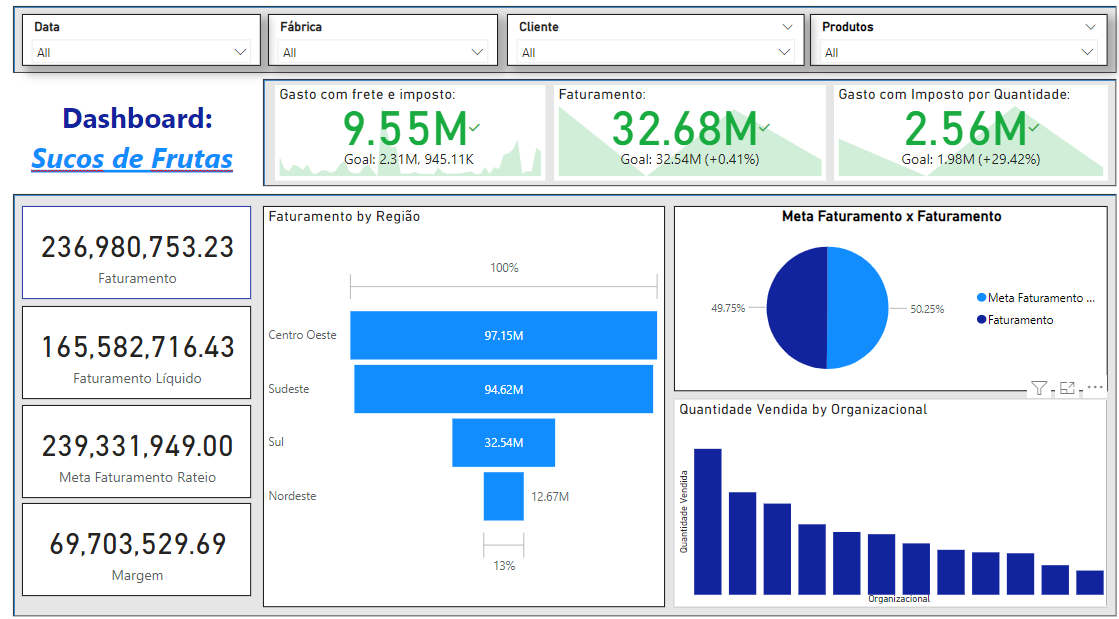

This screenshot's page, from the dashboard's own definition file:
{"tool":"powerbi","page":{"name":"Page 1","canvas":[1280,720],"ordinal":0},"visuals":[{"type":"shape","box":[15.9,12.5,1256.6,76.3],"z":0},{"type":"slicer","fields":{"Values":["Produto.Categoria","Produto.Marca","Produto.Produto"]},"box":[923.9,21.6,339.5,59.2],"z":1000},{"type":"slicer","fields":{"Values":["Fabrica.Fábrica"]},"box":[306.5,21.6,262,59.2],"z":2000},{"type":"slicer","fields":{"Values":["Cliente.Cliente"]},"box":[578.7,21.6,339.5,59.2],"z":3000},{"type":"slicer","fields":{"Values":["Tempo.Ano","Tempo.Semestre","Tempo.Trimestre","Tempo.Mês"]},"box":[26.2,21.6,272.3,59.2],"z":4000},{"type":"shape","box":[300.8,95.7,971.8,121.9],"z":5000},{"type":"shape","box":[15.9,226.7,1256.6,480.8],"z":8000},{"type":"pieChart","title":"Meta Faturamento x Faturamento","fields":{"Y":["Fato Completa.Meta Faturamento Rateio","Fato Completa.Faturamento"]},"box":[769,240.4,494.4,210.8],"z":9000},{"type":"clusteredColumnChart","fields":{"Category":["Organizacional.Organizacional"],"Y":["Fato Completa.Quantidade Vendida"]},"box":[769,460.3,494.4,237],"z":10000},{"type":"kpi","title":"Faturamento:","fields":{"Goal":["Fato Completa.Faturamento"],"TrendLine":["Cliente.Região"],"Indicator":["Fato Completa.Meta Faturamento Rateio"]},"box":[632.3,102.5,309.9,109.4],"z":11000},{"type":"funnel","fields":{"Y":["Fato Completa.Faturamento"],"Category":["Cliente.Estado","Cliente.Região"]},"box":[300.8,240.4,458,456.8],"z":12000},{"type":"card","fields":{"Values":["Fato Completa.Meta Faturamento Rateio"]},"box":[26.2,467.1,260.9,105.9],"z":13000},{"type":"card","fields":{"Values":["Measures.Margem"]},"box":[26.2,578.7,260.9,105.9],"z":14000},{"type":"card","fields":{"Values":["Measures.Faturamento Líquido"]},"box":[26.2,354.3,260.9,105.9],"z":14001},{"type":"card","fields":{"Values":["Fato Completa.Faturamento"]},"box":[26.2,240.4,260.9,105.9],"z":14002},{"type":"kpi","title":"Gasto com Imposto por Quantidade:","fields":{"TrendLine":["Cliente.Região"],"Goal":["Fato Completa.Quantidade Vendida"],"Indicator":["Fato Completa.Imposto"]},"box":[951.3,102.5,312.2,109.4],"z":14003},{"type":"kpi","title":"Gasto com frete e imposto:","fields":{"TrendLine":["Cliente.Cliente"],"Goal":["Fato Completa.Frete Rateio","Fato Completa.Imposto"],"Indicator":["Fato Completa.Faturamento"]},"box":[314.4,102.5,307.6,109.4],"z":14004},{"type":"textbox","box":[15.9,157.2,271.1,54.7],"z":14005},{"type":"textbox","box":[21.6,111.6,271.1,54.7],"z":14006}]}

Visuals, with their boxes in screenshot pixels (x1, y1, x2, y2), scaled from the page's 1280x720 canvas onto the 1119x619 screenshot:
shape: box(14, 11, 1112, 76)
slicer - Produto.Categoria x Produto.Marca: box(808, 19, 1104, 69)
slicer - Fabrica.Fábrica: box(268, 19, 497, 69)
slicer - Cliente.Cliente: box(506, 19, 803, 69)
slicer - Tempo.Ano x Tempo.Semestre: box(23, 19, 261, 69)
shape: box(263, 82, 1113, 187)
shape: box(14, 195, 1112, 608)
"Meta Faturamento x Faturamento" pieChart: box(672, 207, 1104, 388)
clusteredColumnChart - Organizacional.Organizacional x Fato Completa.Quantidade Vendida: box(672, 396, 1104, 599)
"Faturamento:" kpi: box(553, 88, 824, 182)
funnel - Fato Completa.Faturamento x Cliente.Estado: box(263, 207, 663, 599)
card - Fato Completa.Meta Faturamento Rateio: box(23, 402, 251, 493)
card - Measures.Margem: box(23, 498, 251, 589)
card - Measures.Faturamento Líquido: box(23, 305, 251, 396)
card - Fato Completa.Faturamento: box(23, 207, 251, 298)
"Gasto com Imposto por Quantidade:" kpi: box(832, 88, 1105, 182)
"Gasto com frete e imposto:" kpi: box(275, 88, 544, 182)
textbox: box(14, 135, 251, 182)
textbox: box(19, 96, 256, 143)
